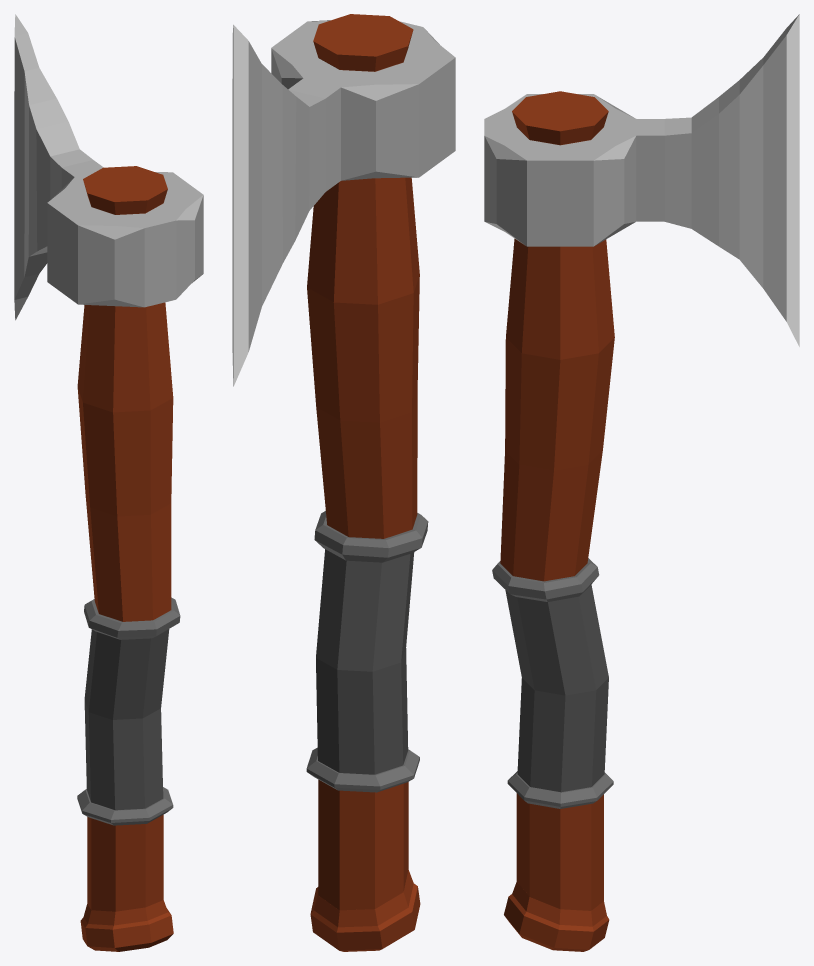
Rendered from Axe.fbx.
3 renders of one model, left to right at view 1: azimuth 30°, elevation 25°; view 2: azimuth 150°, elevation 25°; view 3: azimuth 270°, elevation 25°, orthographic. The views are drawn at different scales.
Visible parts, largest first — view 1: Cube; view 2: Cube; view 3: Cube.
Part boxes in pixels (x1,y1,x2,y2): Cube: (14,14,203,951); Cube: (232,14,455,951); Cube: (484,14,799,951).
Size of the model in its own units: 10 by 65 by 20.
